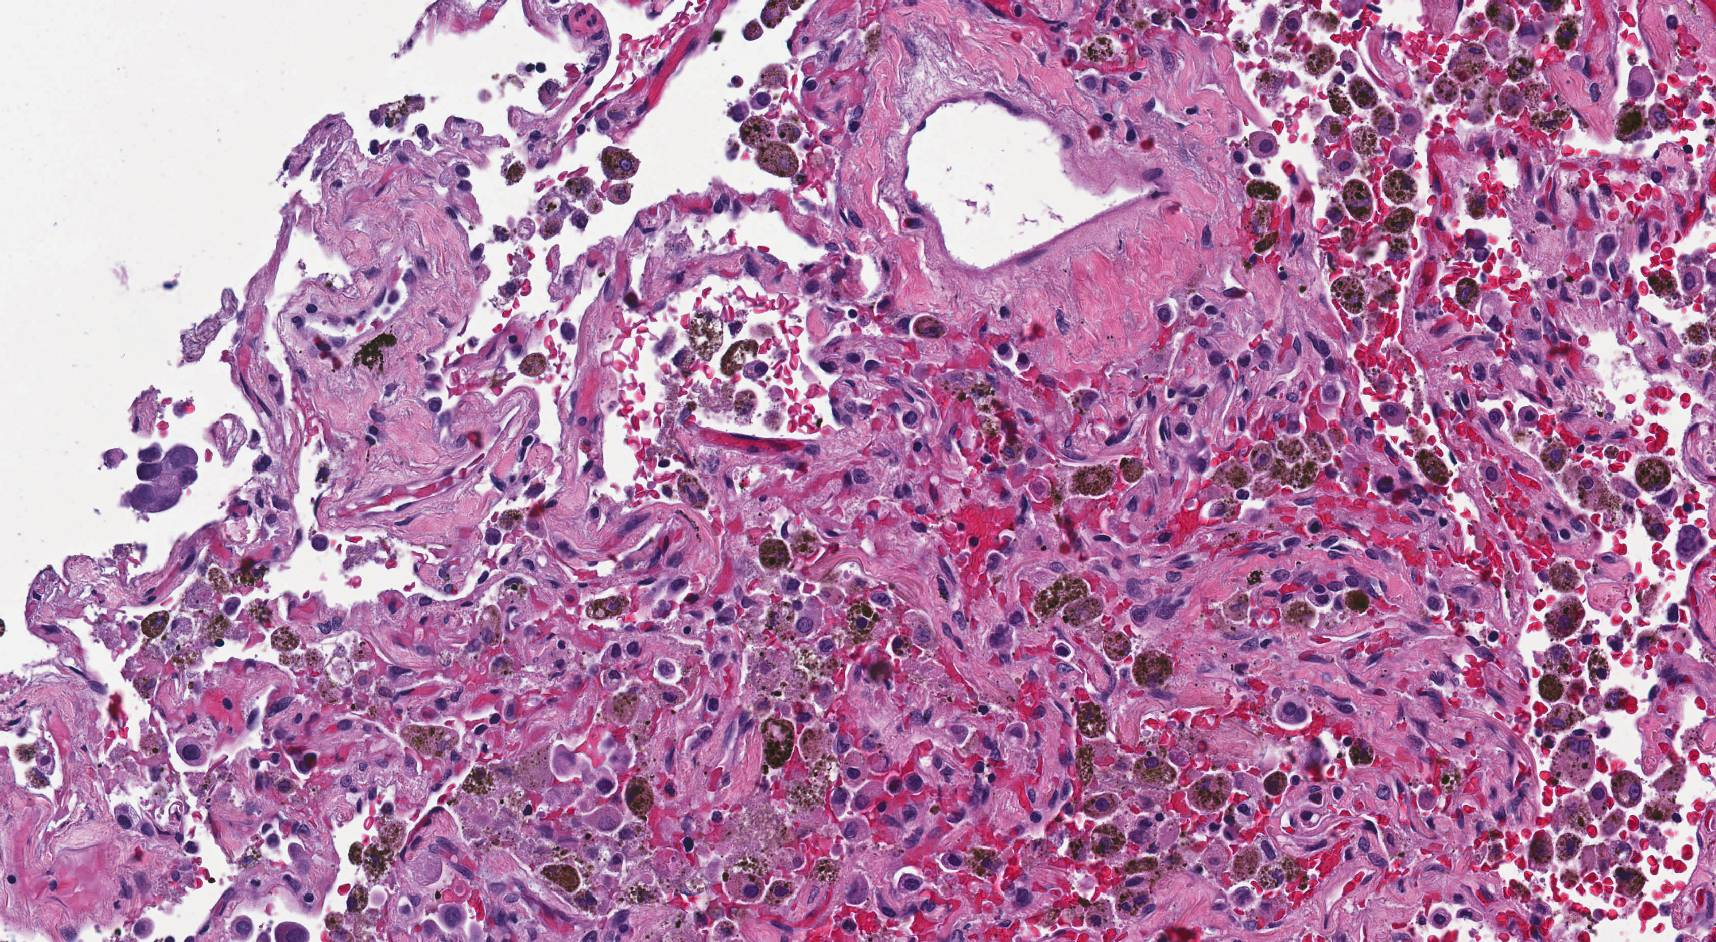stas: (125, 441, 198, 511)
